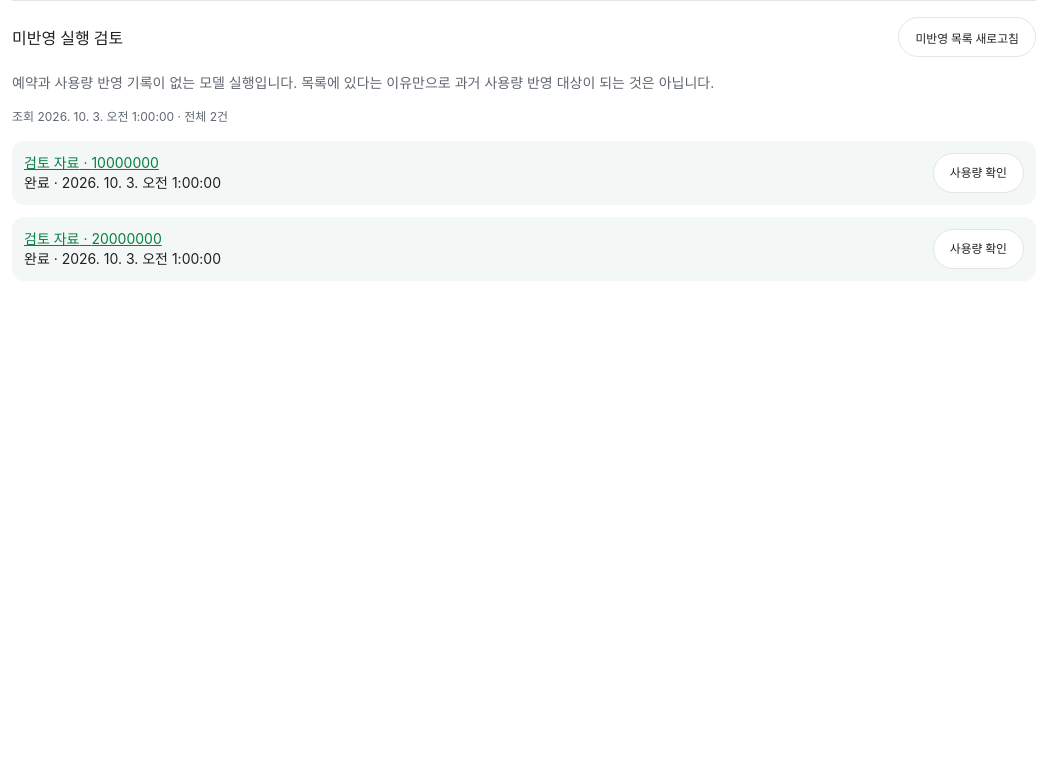
미반영 실행 사용량 확인 › 반영 거절 401는 성공으로 처리하지 않는다
Step 1. Click the button "사용량 확인" in the row of "10000000" → (978, 173), box [933,153,1024,193]
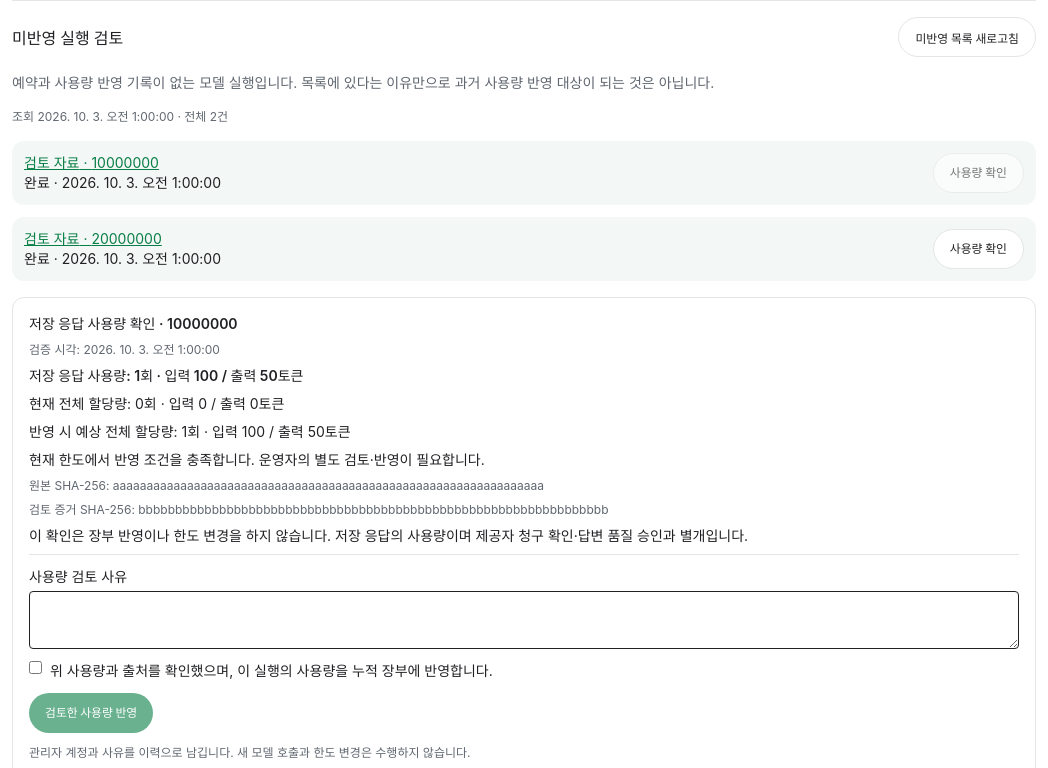
Step 2. Type "전체 저장 응답 검토" into the text box labelled "사용량 검토 사유" → (524, 620), box [29,591,1019,649]
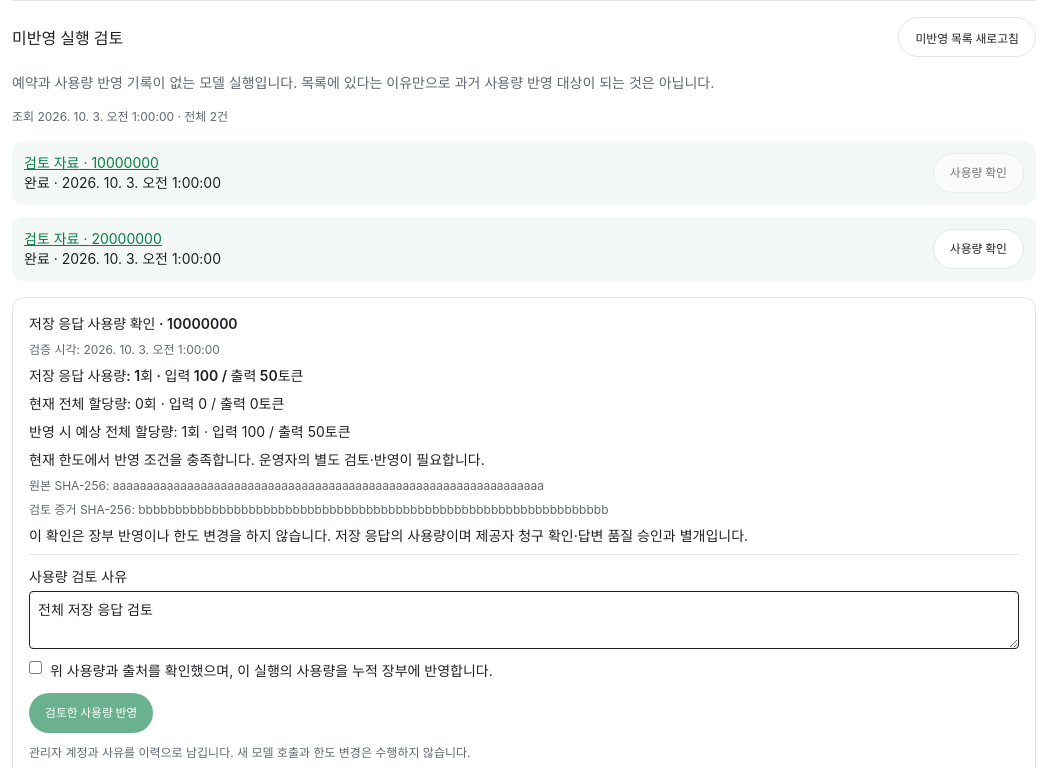
Step 3. Click the checkbox → (36, 668), box [29,661,42,674]
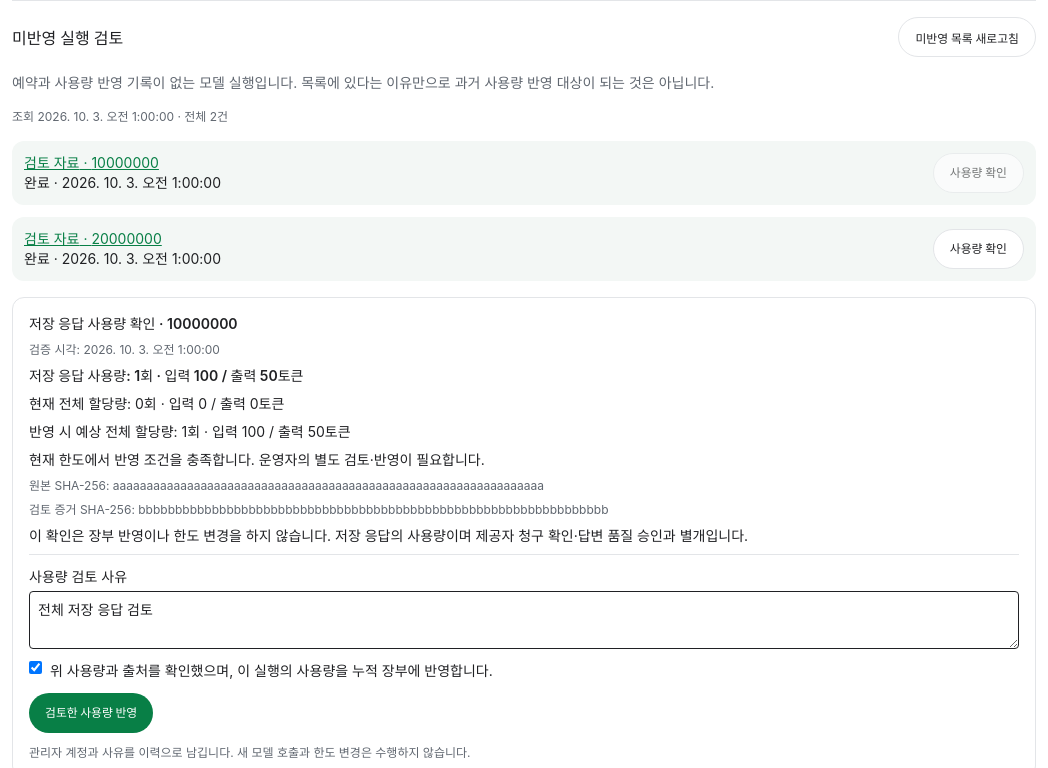
Step 4. Click the button "검토한 사용량 반영" → (91, 713), box [29,693,153,733]
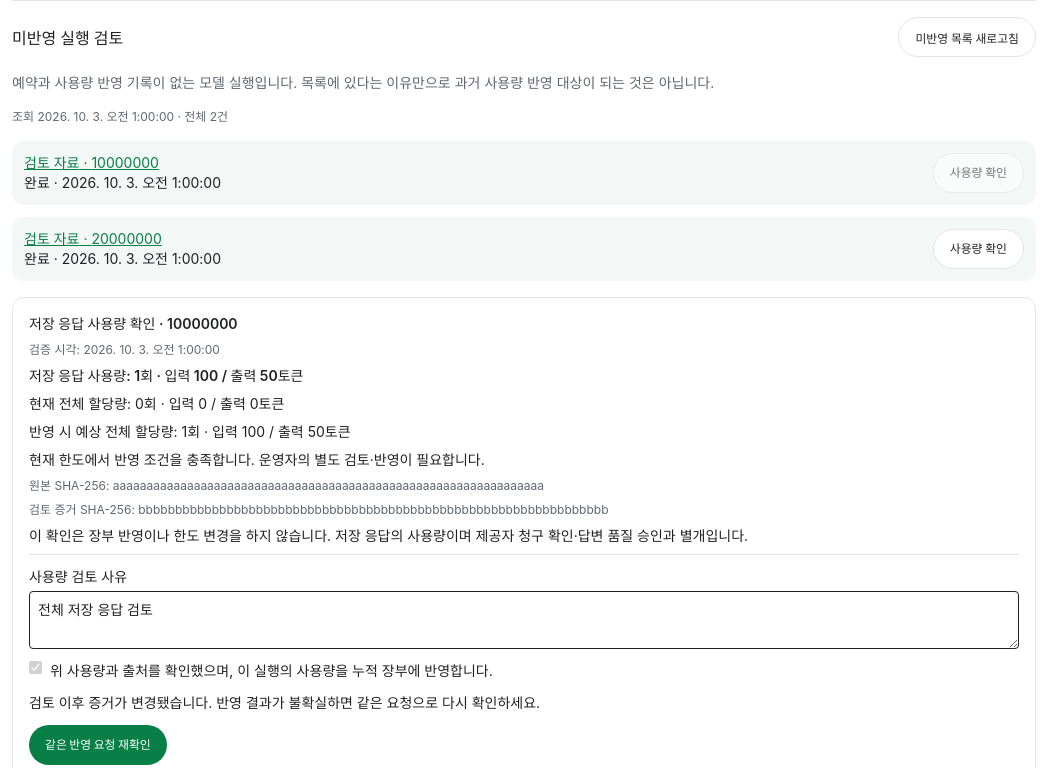
expect the message "검토 이후 증거가 변경됐습니다. 반영 결과가 불확실하면 같은 요청으로 다시 확인하세요." is shown: met, box [29,694,540,711]
